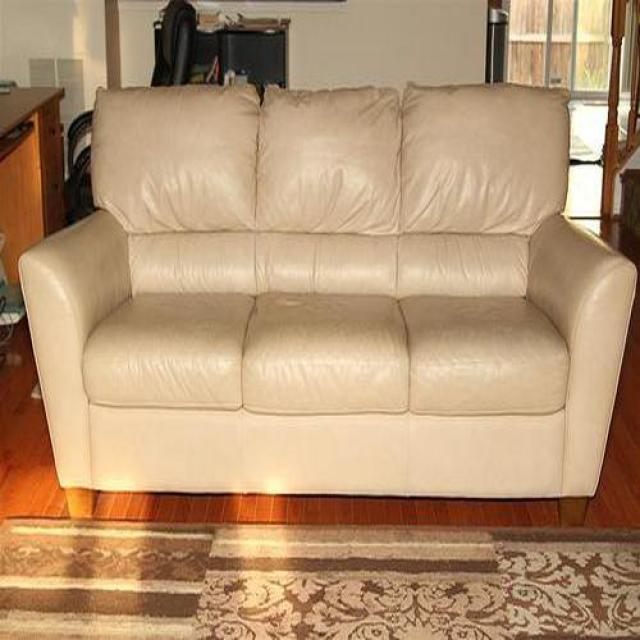sofa: (15, 82, 635, 520)
